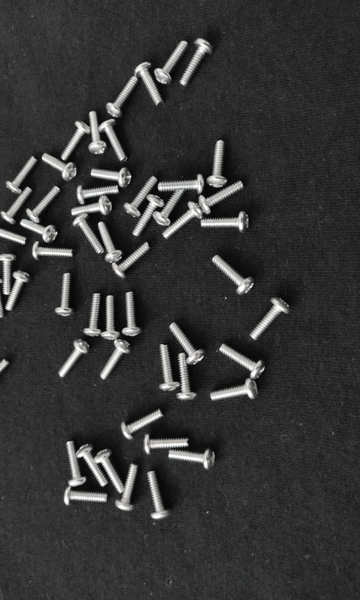shortscrew: (250, 297, 292, 341), (212, 254, 256, 295), (219, 345, 267, 380), (169, 322, 206, 366), (199, 180, 246, 214), (162, 202, 205, 239), (181, 38, 213, 86), (112, 241, 153, 278), (156, 40, 189, 85), (75, 445, 109, 488), (94, 450, 127, 494), (124, 177, 159, 218), (106, 76, 140, 118), (121, 409, 165, 441), (100, 339, 133, 381), (133, 194, 165, 237), (26, 185, 62, 223), (134, 62, 163, 107), (100, 119, 129, 164), (73, 214, 105, 254), (148, 472, 174, 521), (61, 121, 92, 162), (0, 187, 33, 225), (210, 378, 260, 403), (59, 339, 91, 378), (6, 157, 39, 194), (5, 269, 32, 312), (96, 222, 124, 263), (115, 463, 138, 512), (154, 191, 184, 227), (176, 353, 198, 402), (201, 212, 250, 234), (159, 174, 208, 196), (168, 449, 217, 470), (143, 434, 192, 455), (41, 155, 80, 181), (160, 344, 181, 392), (208, 140, 228, 189), (64, 485, 108, 507), (55, 273, 77, 317), (122, 291, 143, 337), (71, 195, 113, 218), (66, 442, 87, 487), (100, 295, 121, 340), (21, 220, 58, 245), (75, 184, 120, 204), (83, 292, 102, 339), (88, 112, 108, 155), (32, 242, 74, 262), (91, 168, 132, 187), (0, 253, 17, 295), (0, 223, 29, 245), (0, 358, 12, 395), (0, 277, 7, 318)
